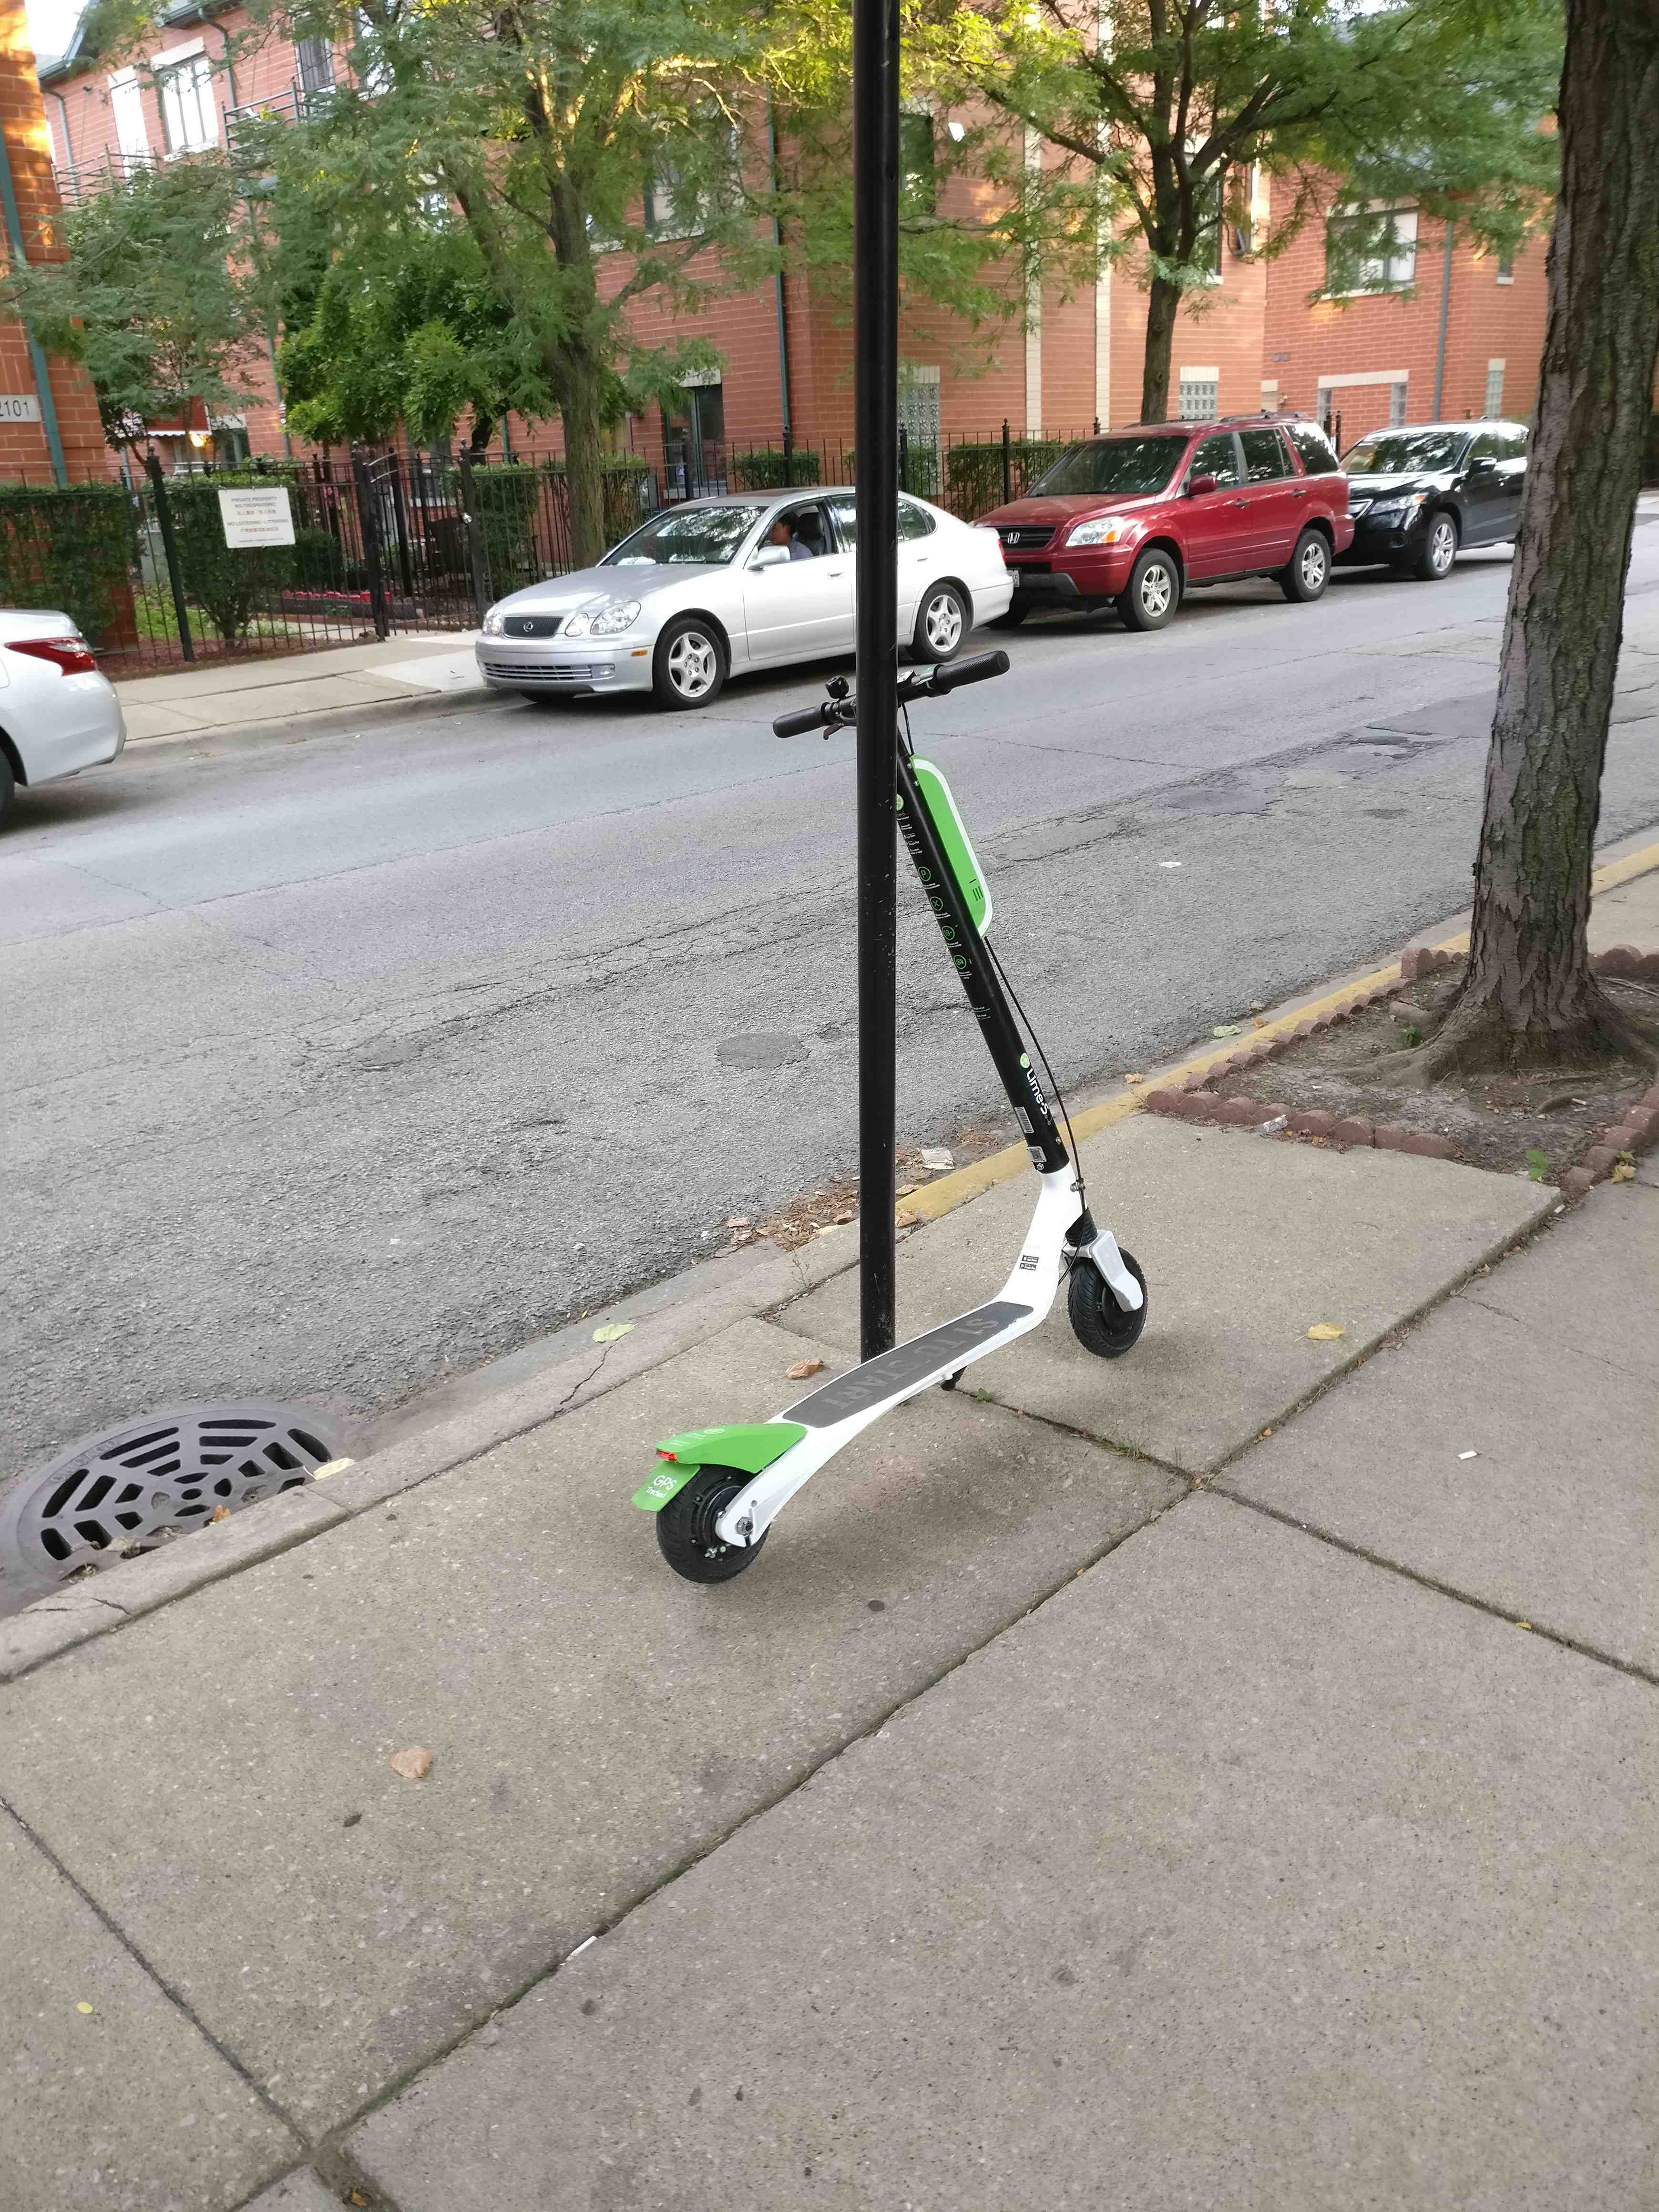scooter: (615, 644, 1173, 1601)
